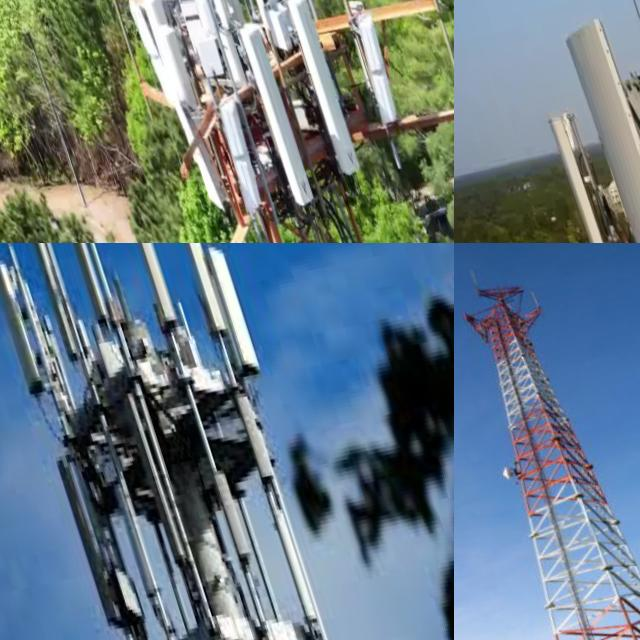GSM Antenna: (118, 0, 230, 212), (230, 5, 327, 222), (555, 0, 640, 243), (282, 0, 369, 181), (118, 385, 201, 572), (543, 97, 640, 243), (13, 243, 92, 367), (345, 0, 413, 138), (198, 243, 265, 379), (209, 87, 275, 214), (0, 249, 52, 397), (149, 5, 207, 114), (169, 243, 228, 328), (60, 243, 117, 325), (209, 459, 254, 561), (129, 243, 181, 317), (521, 277, 549, 310), (467, 259, 487, 293)
Microwave Antenna: (488, 447, 529, 489)
